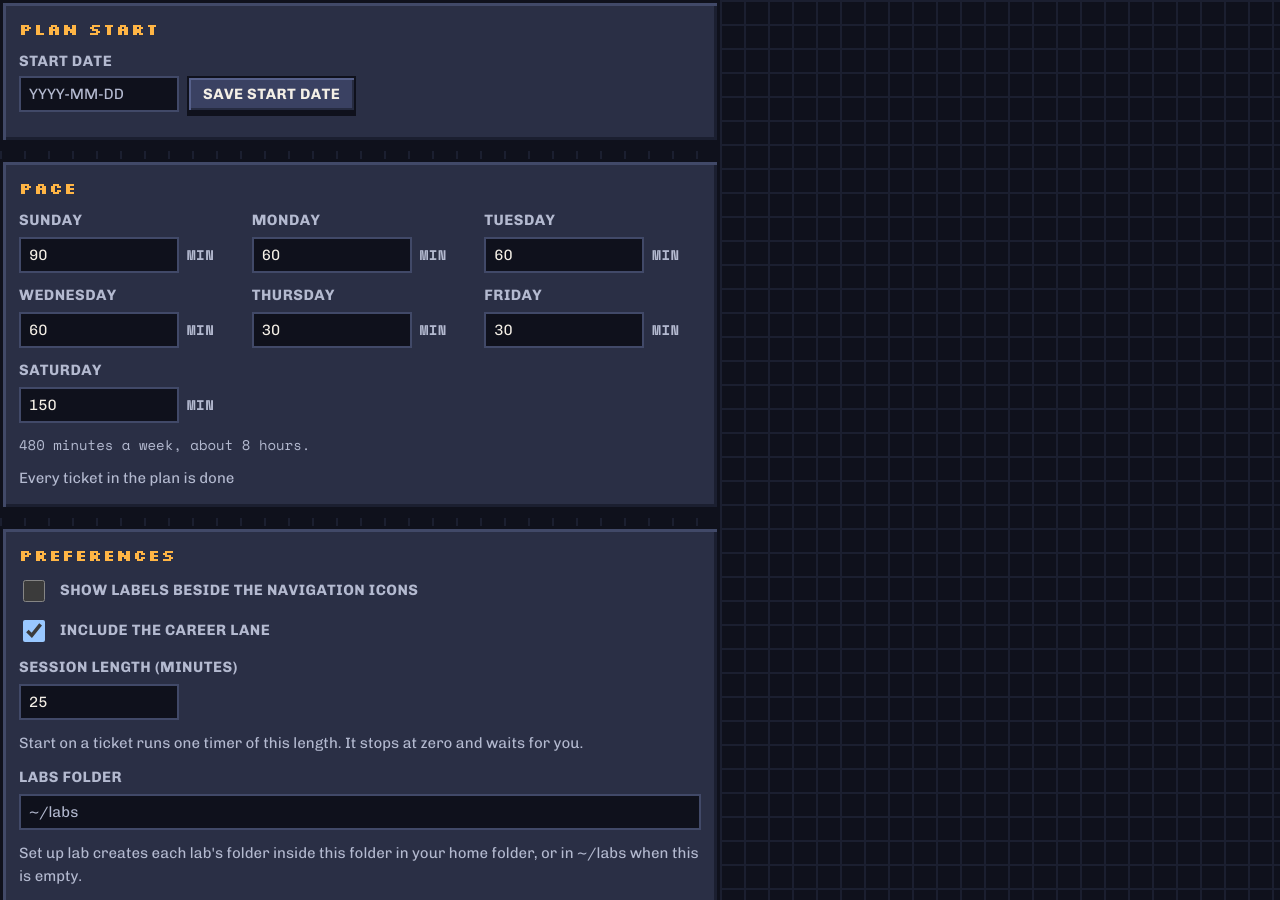
Test: Settings: a failing save › pace: a failing budget save toasts one sentence and the field stays editable
Check: the element with test id "settings-pace" is shown, box [0, 159, 720, 510]
Step 1. Replace the text in the field with test id "settings-budget-1" with "120" → (332, 255), box [252, 237, 412, 273]
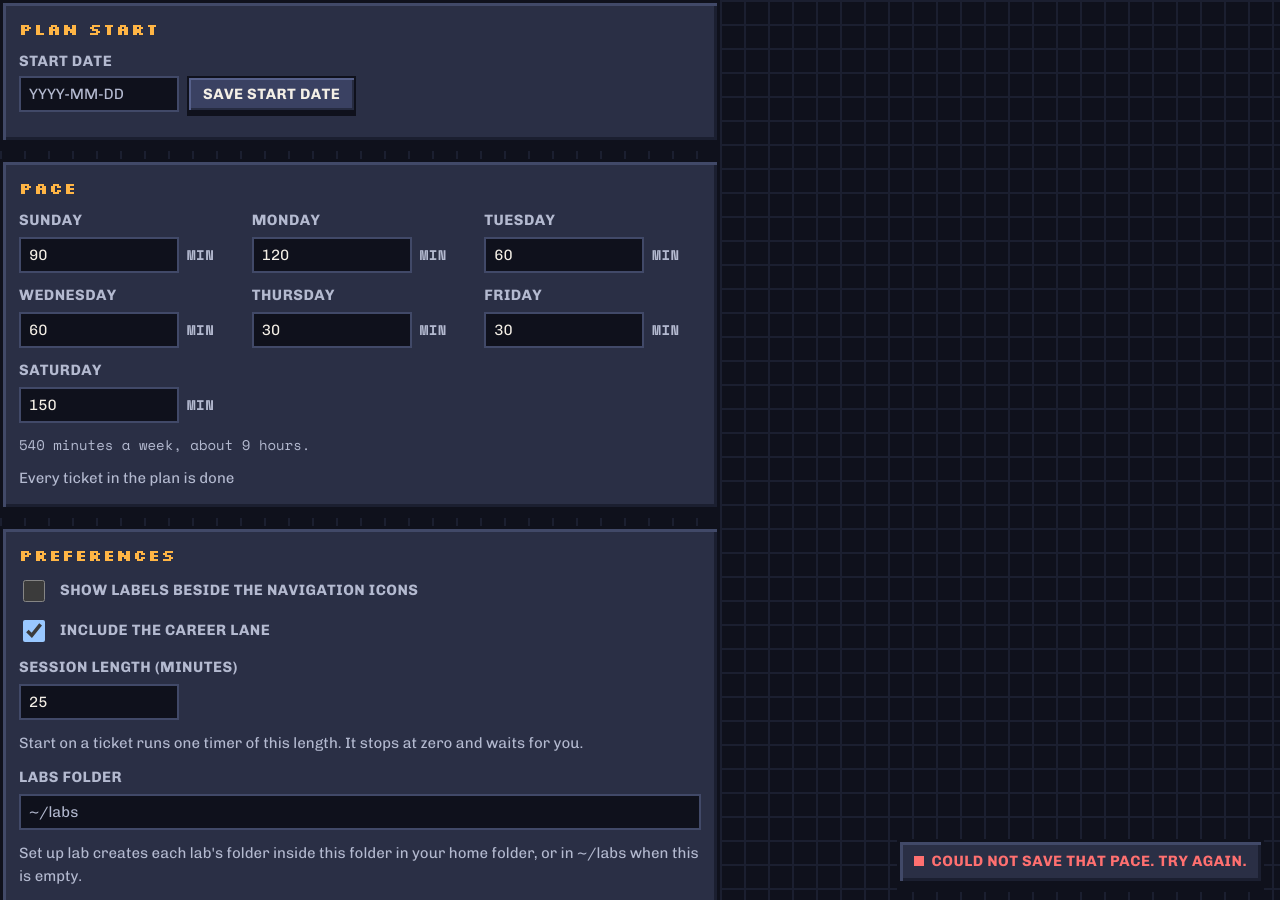
Check: the text "Could not save that pace. Try again." is shown, box [897, 839, 1264, 884]
